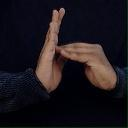hand: (55, 41, 117, 91), (34, 7, 66, 93)
